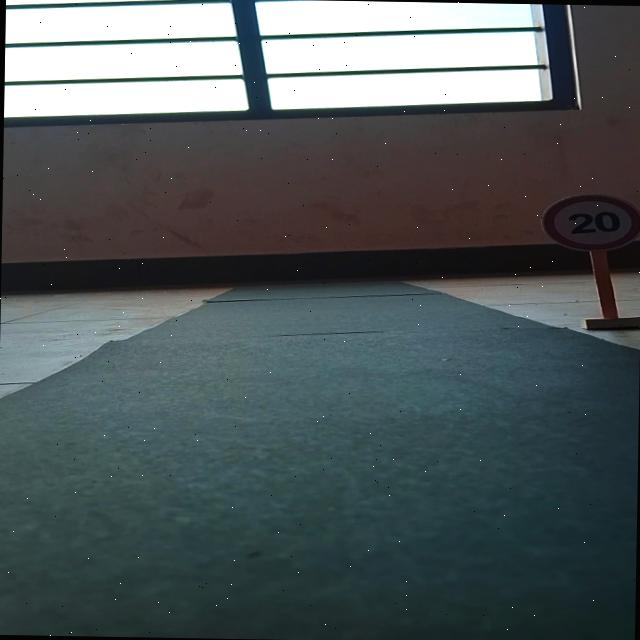Speed20: (535, 187, 640, 253)
